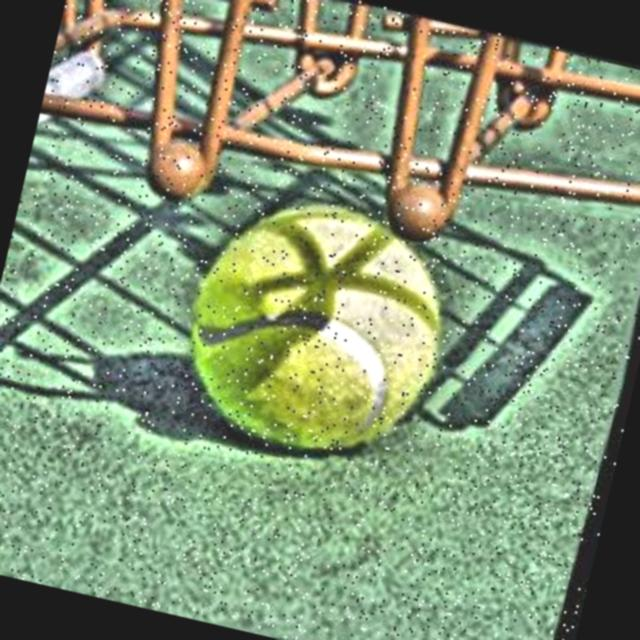tennis-ball: (154, 159, 477, 491)
